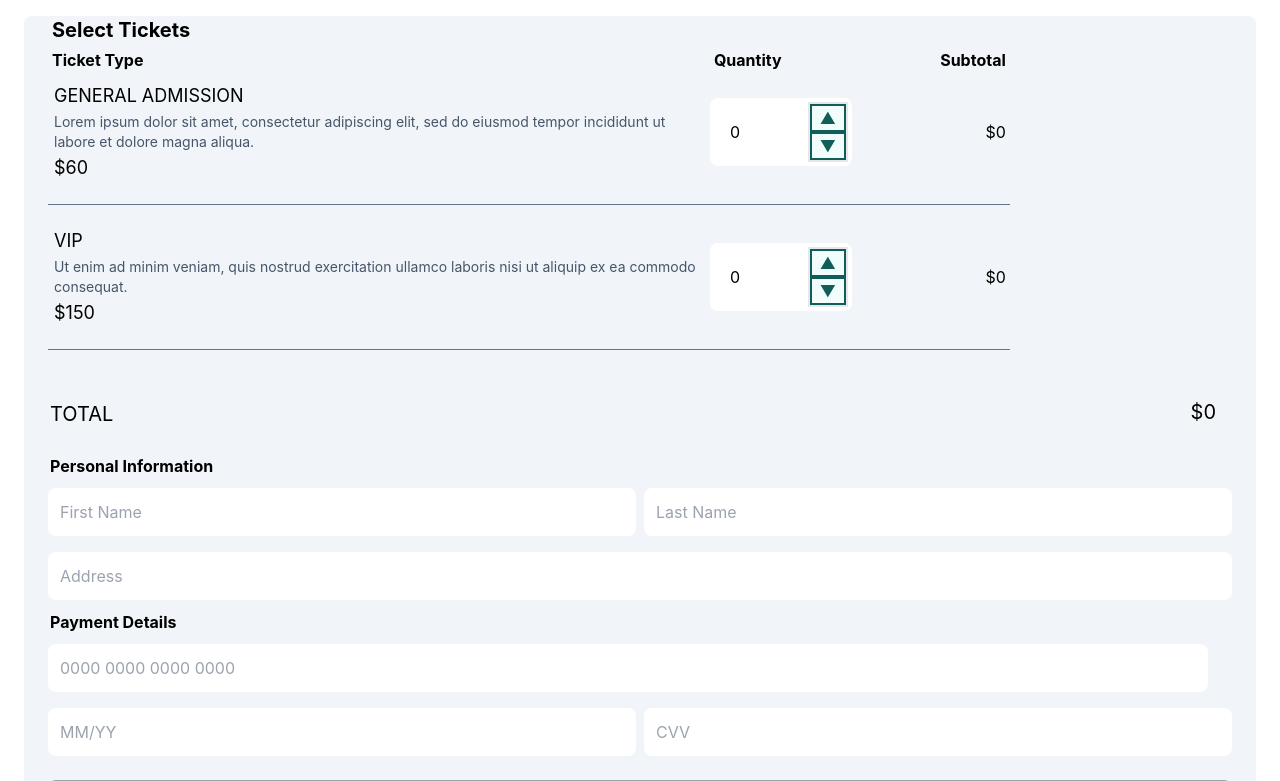
it: BandForm › shows correct quantity when decrement button is clicked after clicking increment button three times
This screenshot has width=1280, height=781.
Click the button with test id "increment-button-general".
click(828, 118)  # box x1=810 y1=104 x2=846 y2=132
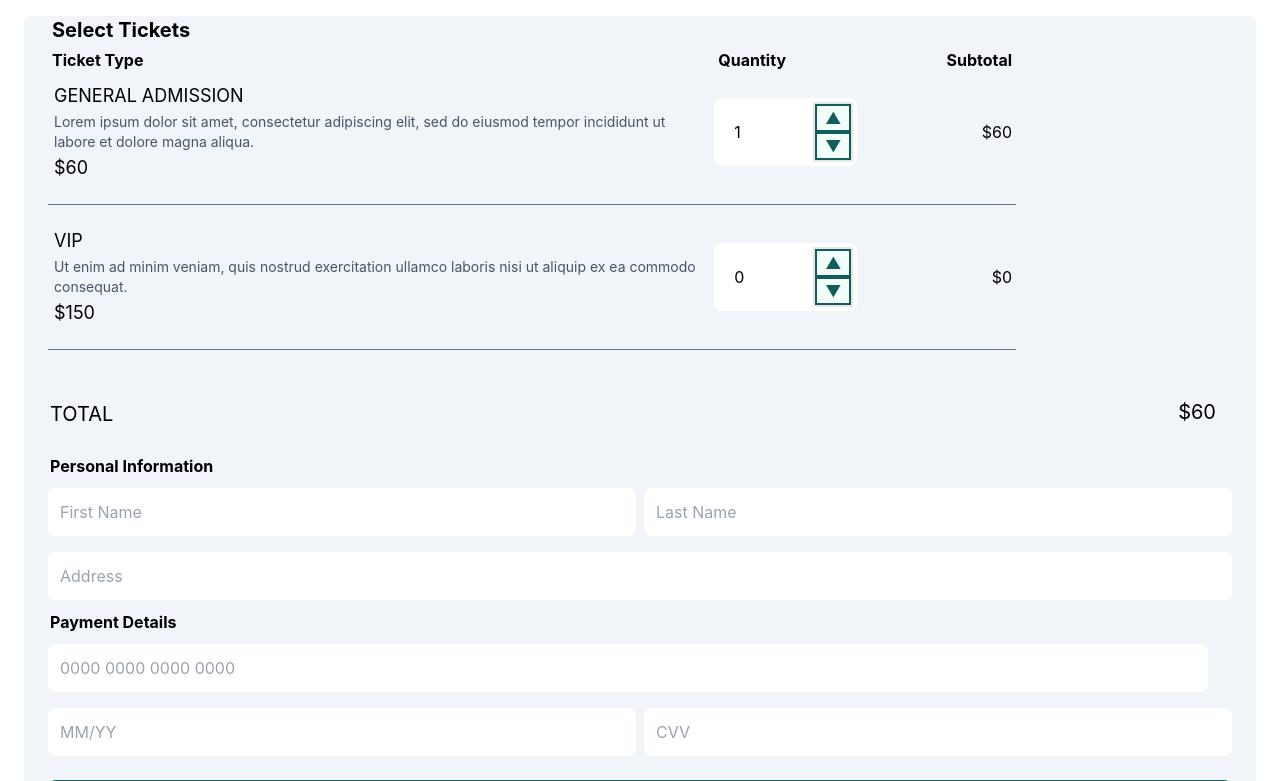
Click the button with test id "increment-button-general".
click(833, 118)  # box x1=815 y1=104 x2=851 y2=132
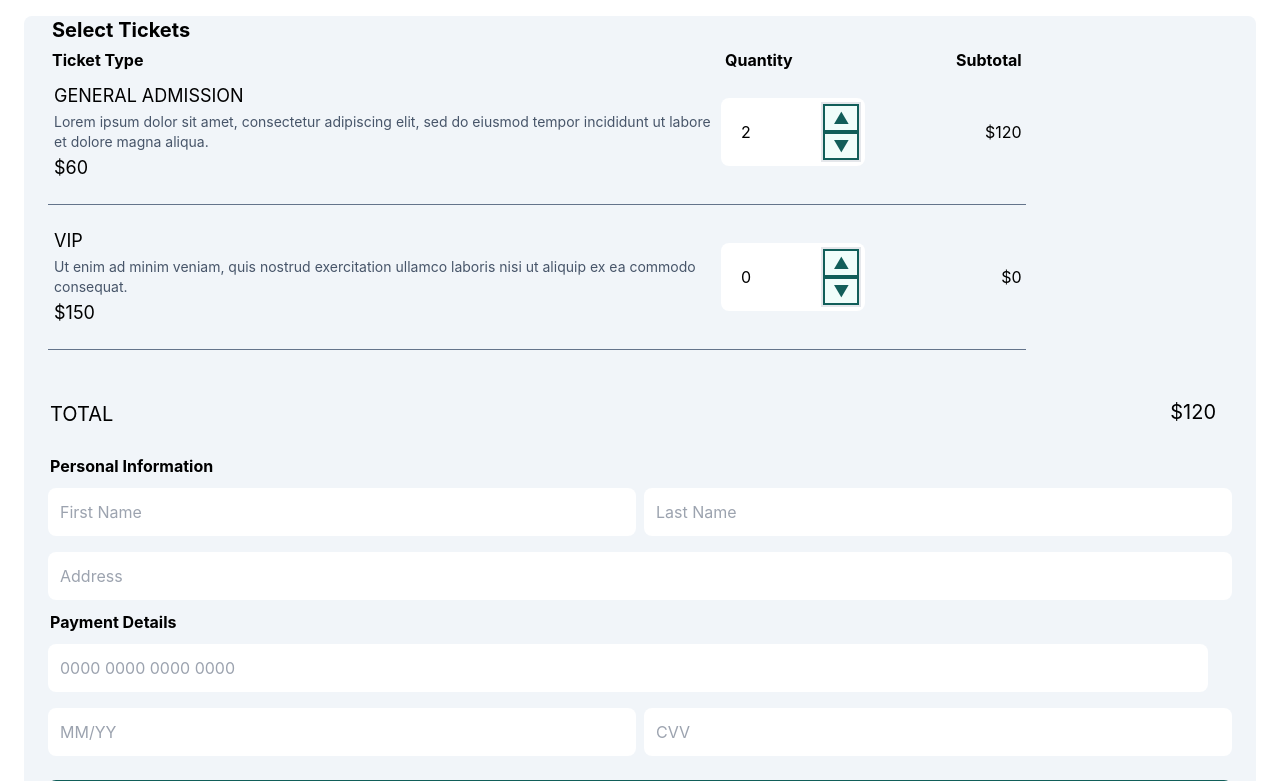
Click the button with test id "increment-button-general".
click(841, 118)  # box x1=823 y1=104 x2=859 y2=132
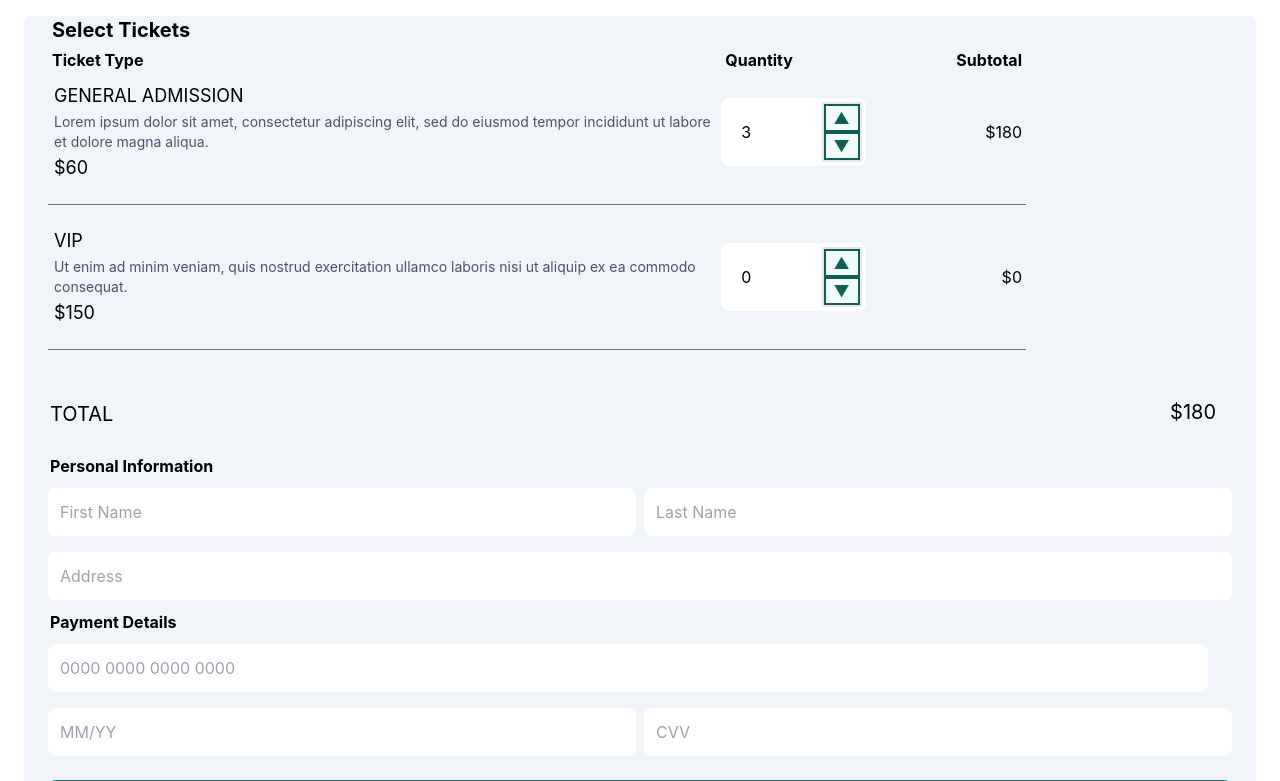
Click the button with test id "decrement-button-general".
click(842, 146)  # box x1=824 y1=132 x2=860 y2=160
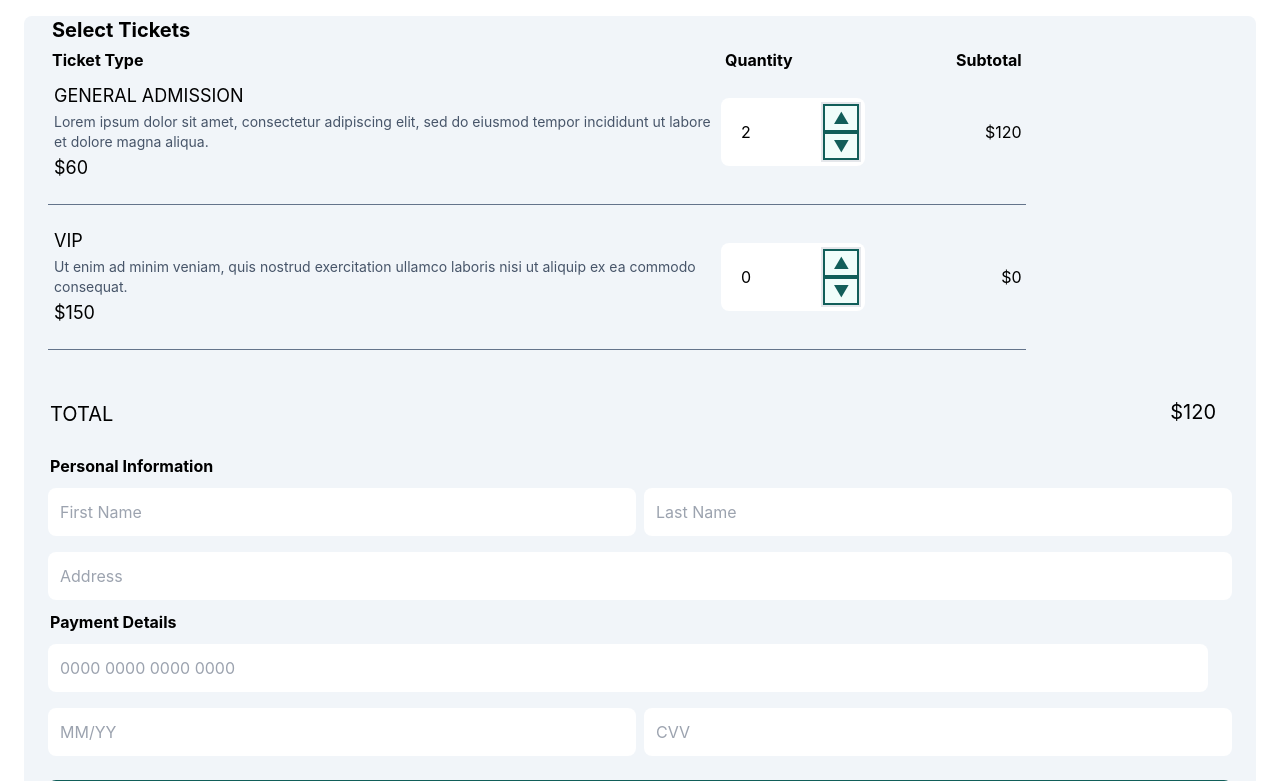
Expected: the text with test id "quantity-general" reads "2", x1=741 y1=122 x2=751 y2=142
